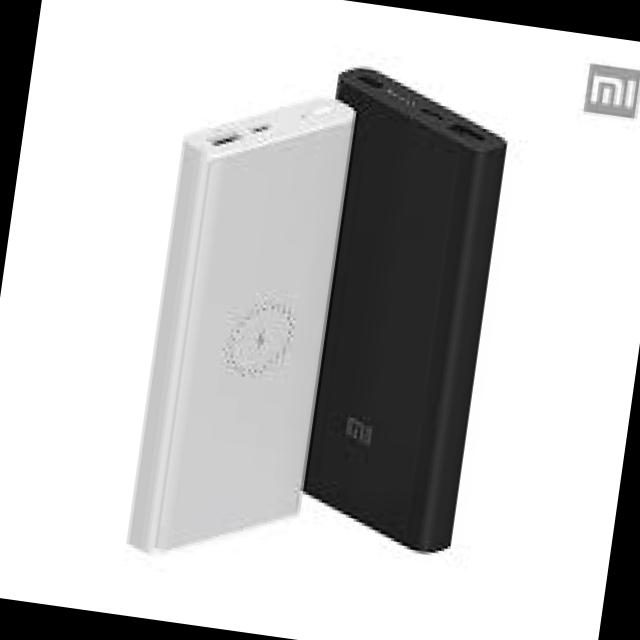portable-charger: (269, 54, 525, 562), (125, 76, 360, 574)
